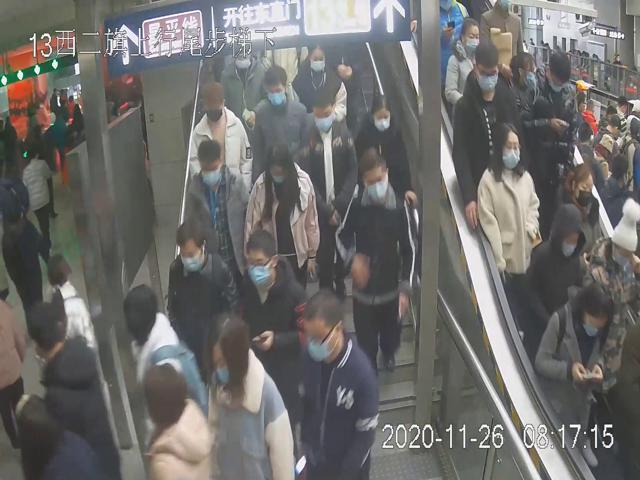person: (334, 147, 416, 381), (292, 287, 380, 480), (203, 310, 294, 480), (451, 40, 532, 226), (239, 230, 311, 420), (243, 141, 319, 305), (475, 121, 538, 300), (168, 216, 240, 366), (180, 138, 247, 273), (183, 79, 253, 202), (248, 65, 314, 184), (300, 91, 356, 221), (355, 95, 415, 202), (289, 42, 348, 123)
